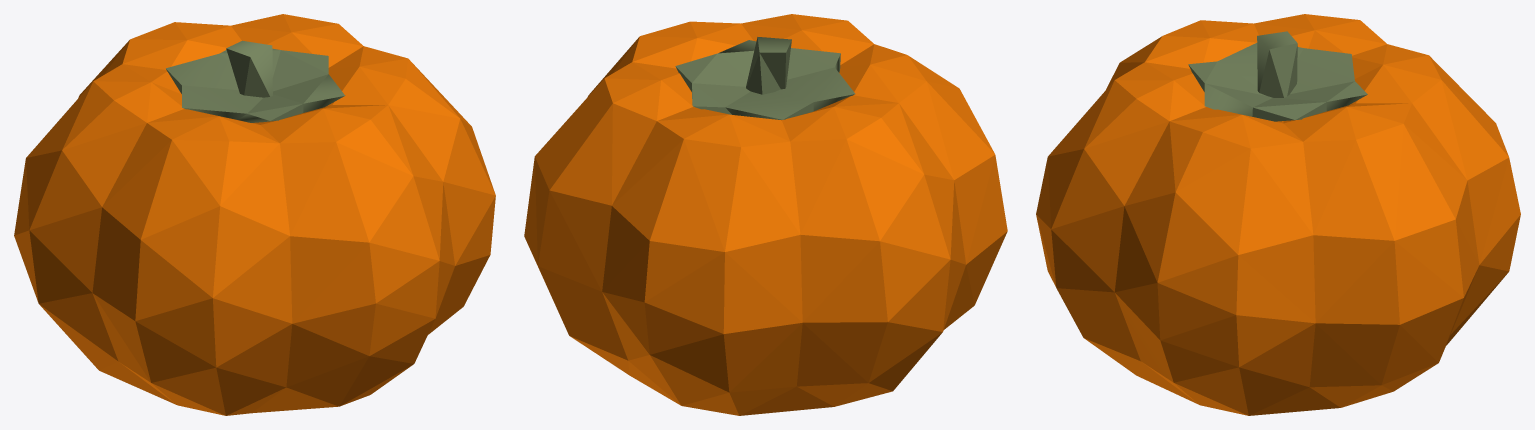
File: SM_Food_Pumpkin_01.fbx
The picture shows the model from 3 angles, left to right: view 1: azimuth 30°, elevation 25°; view 2: azimuth 150°, elevation 25°; view 3: azimuth 270°, elevation 25°; orthographic projection.
Parts seen in each view (by area): view 1: SM_Food_Pumpkin_01; view 2: SM_Food_Pumpkin_01; view 3: SM_Food_Pumpkin_01.
Boxes of the visible parts, x1,y1,x2,y2 form: SM_Food_Pumpkin_01: (14,14,495,415); SM_Food_Pumpkin_01: (524,14,1007,415); SM_Food_Pumpkin_01: (1036,14,1520,415).
Bounding box in the file's own units: 0.3387 × 0.2533 × 0.3443.
